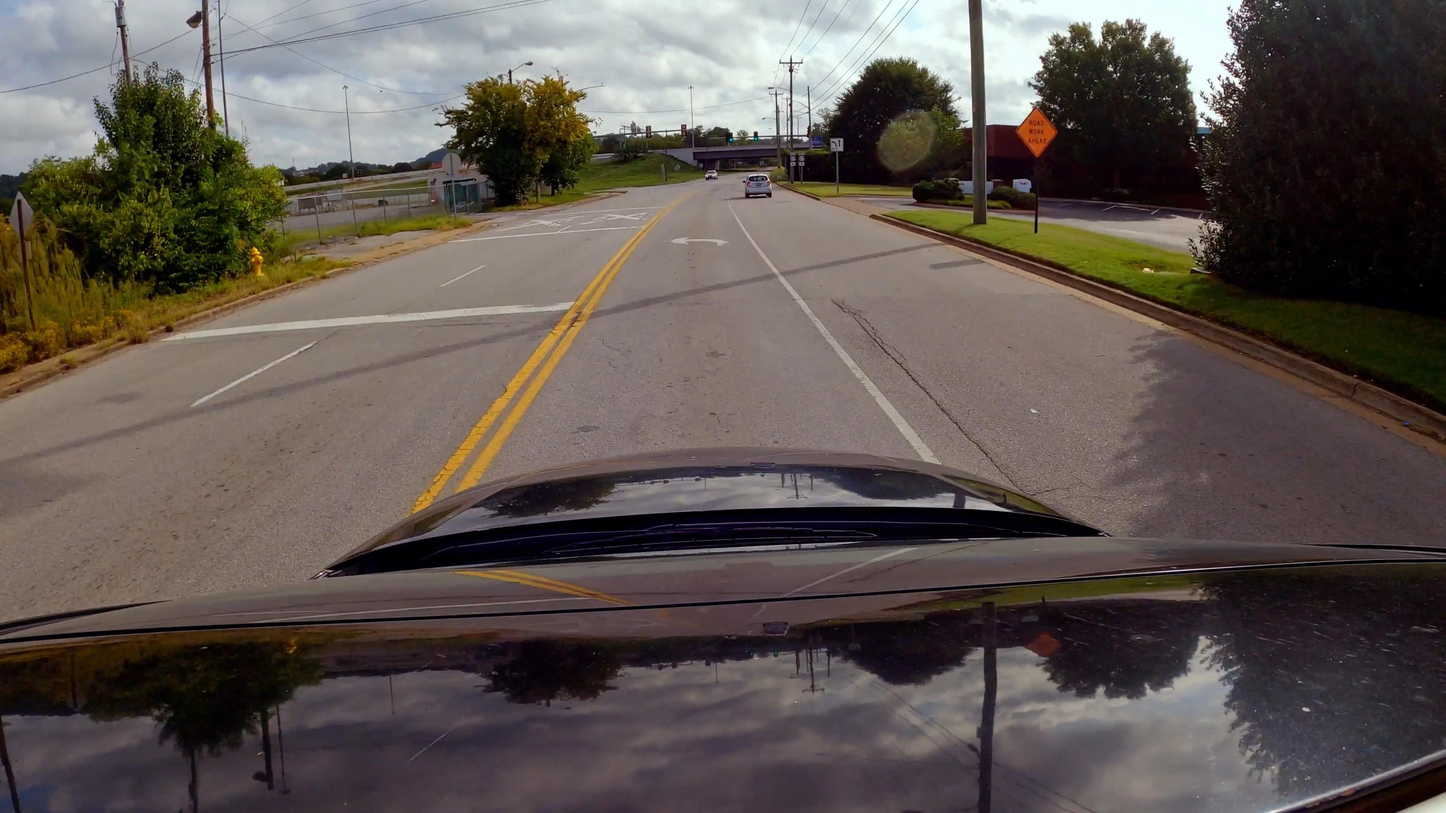dry: (0, 171, 1446, 621)
